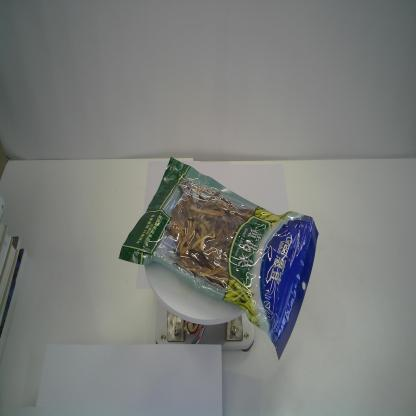Dried Food: (118, 156, 319, 360)
